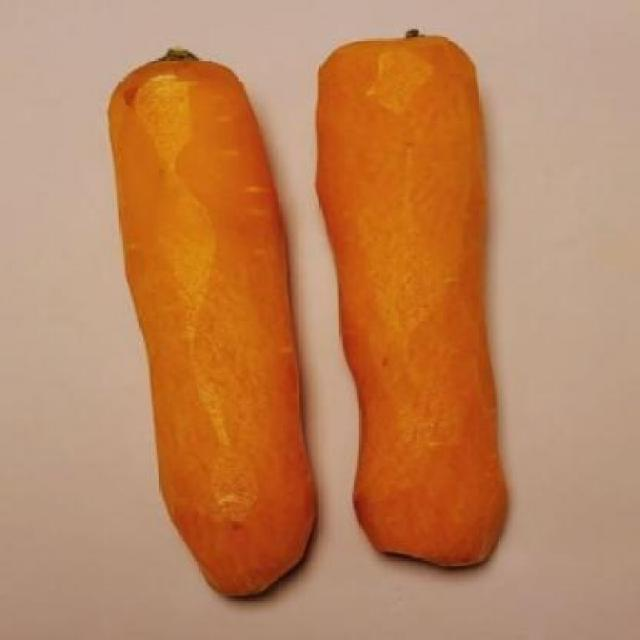carrot: (106, 49, 321, 606), (309, 24, 522, 581)
